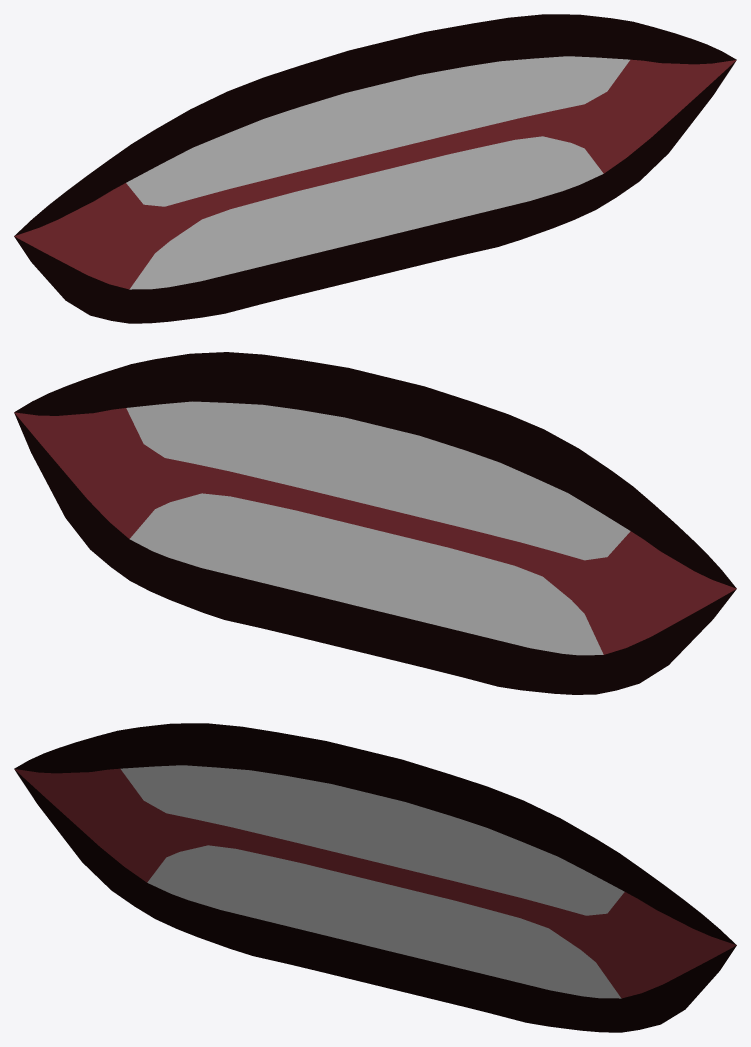
Rendered from flip_r.glb.
3 views of the same model, one above another, from view 1: azimuth 30°, elevation 25°; view 2: azimuth 150°, elevation 25°; view 3: azimuth 330°, elevation 25° (orthographic).
Visible parts, largest first — view 1: flip_r; view 2: flip_r; view 3: flip_r.
Boxes of the visible parts, x1,y1,x2,y2 form: flip_r: (14, 14, 736, 323); flip_r: (14, 352, 736, 694); flip_r: (14, 723, 736, 1032).
Size of the model in its own units: 0.0814 by 0.0277 by 0.00494.
